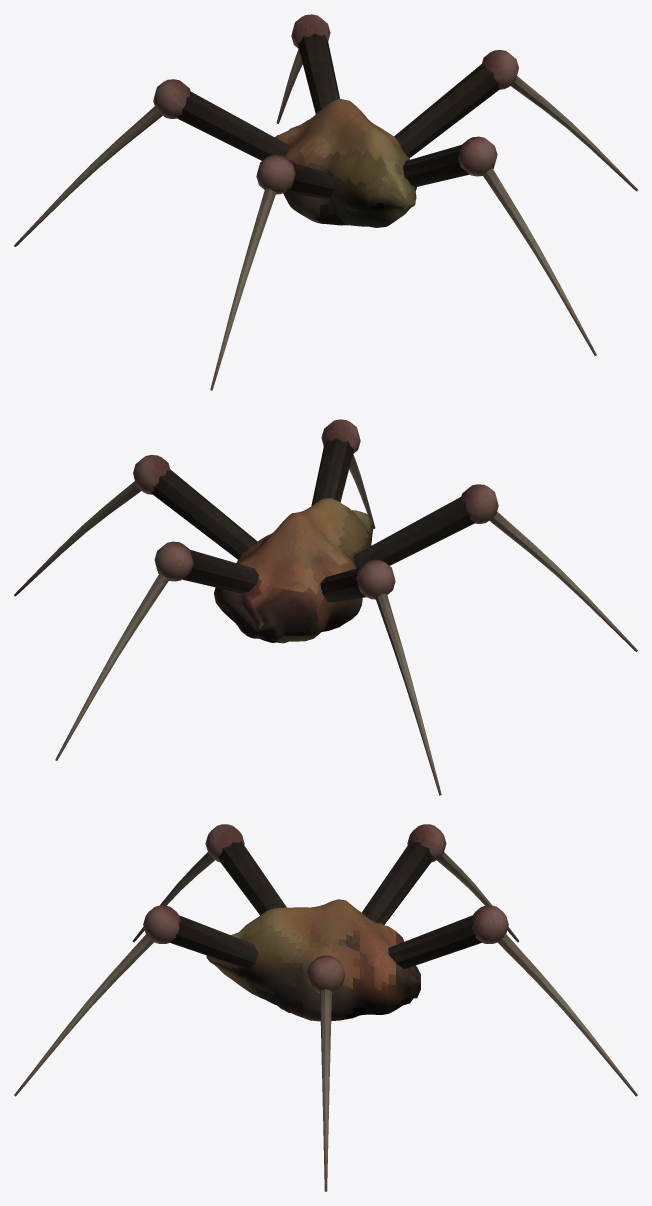
File: big-strafer-pentapod.glb
The picture shows the model from 3 angles, top to bottom: view 1: azimuth 30°, elevation 25°; view 2: azimuth 150°, elevation 25°; view 3: azimuth 270°, elevation 25°; orthographic projection. The views are drawn at different scales.
Parts seen in each view (by area): view 1: body, anim_leg_upper.003, anim_leg_upper, anim_leg_lower.002, anim_leg_lower.001, anim_leg_lower, anim_leg_lower.003, anim_leg_upper.004, anim_leg_upper.002, anim_leg_lower.004, anim_leg_upper.001; view 2: body, anim_leg_upper.003, anim_leg_upper.001, anim_leg_lower, anim_leg_lower.004, anim_leg_lower.001, anim_leg_lower.003, anim_leg_upper.004, anim_leg_upper.002, anim_leg_lower.002, anim_leg_upper; view 3: body, anim_leg_lower.004, anim_leg_lower.003, anim_leg_lower.002, anim_leg_upper, anim_leg_upper.004, anim_leg_upper.002, anim_leg_upper.001, anim_leg_lower, anim_leg_lower.001.
Boxes of the visible parts, box(x1,y1,x2,y2) form: body: box(275, 98, 416, 227); anim_leg_upper.003: box(394, 64, 500, 158); anim_leg_upper: box(177, 91, 290, 160); anim_leg_lower.002: box(458, 136, 596, 355); anim_leg_lower.001: box(210, 154, 295, 390); anim_leg_lower: box(14, 79, 190, 246); anim_leg_lower.003: box(481, 50, 637, 191); anim_leg_upper.004: box(297, 33, 339, 114); anim_leg_upper.002: box(403, 145, 469, 187); anim_leg_lower.004: box(276, 14, 330, 123); anim_leg_upper.001: box(285, 162, 334, 198); body: box(214, 498, 374, 643); anim_leg_upper.003: box(151, 469, 257, 559); anim_leg_upper.001: box(353, 496, 474, 568); anim_leg_lower: box(356, 559, 441, 795); anim_leg_lower.004: box(55, 541, 193, 760); anim_leg_lower.001: box(461, 484, 637, 651); anim_leg_lower.003: box(14, 455, 170, 596); anim_leg_upper.004: box(182, 550, 258, 593); anim_leg_upper.002: box(311, 438, 354, 505); anim_leg_lower.002: box(321, 419, 375, 528); anim_leg_upper: box(320, 568, 366, 602); body: box(206, 899, 420, 1021); anim_leg_lower.004: box(471, 905, 637, 1096); anim_leg_lower.003: box(306, 955, 345, 1191); anim_leg_lower.002: box(14, 905, 180, 1096); anim_leg_upper: box(361, 841, 433, 924); anim_leg_upper.004: box(388, 915, 481, 968); anim_leg_upper.002: box(170, 915, 258, 968); anim_leg_upper.001: box(218, 841, 286, 915); anim_leg_lower: box(407, 824, 519, 942); anim_leg_lower.001: box(132, 824, 244, 942).
Bounding box in the file's own units: 14.52 × 4.57 × 15.26.
1 material, 1 textured.
